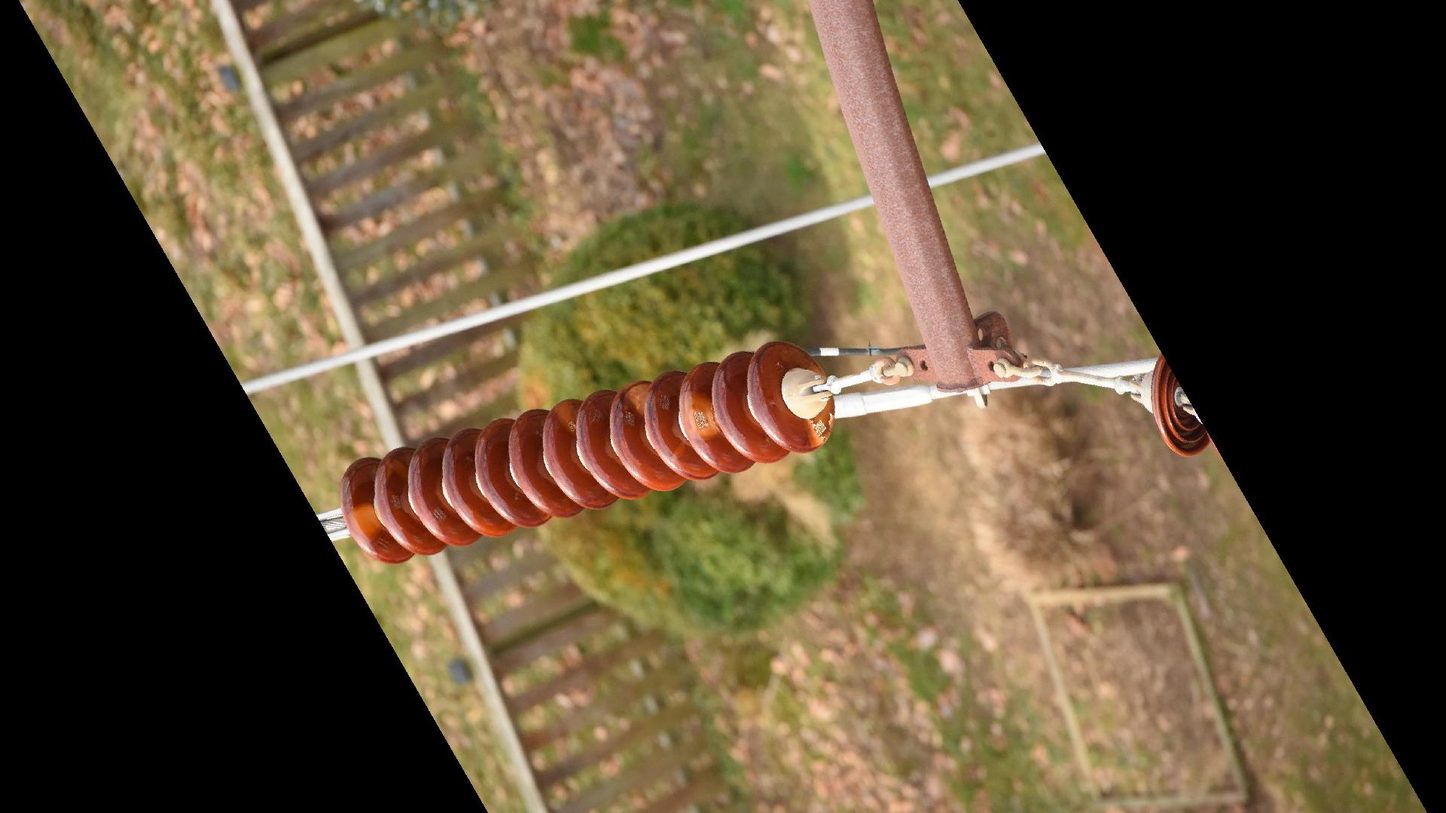insulator: (334, 336, 843, 568)
insulator_flashover: (677, 388, 721, 440), (804, 396, 837, 452), (343, 501, 383, 542), (621, 377, 654, 415), (553, 399, 580, 434)
